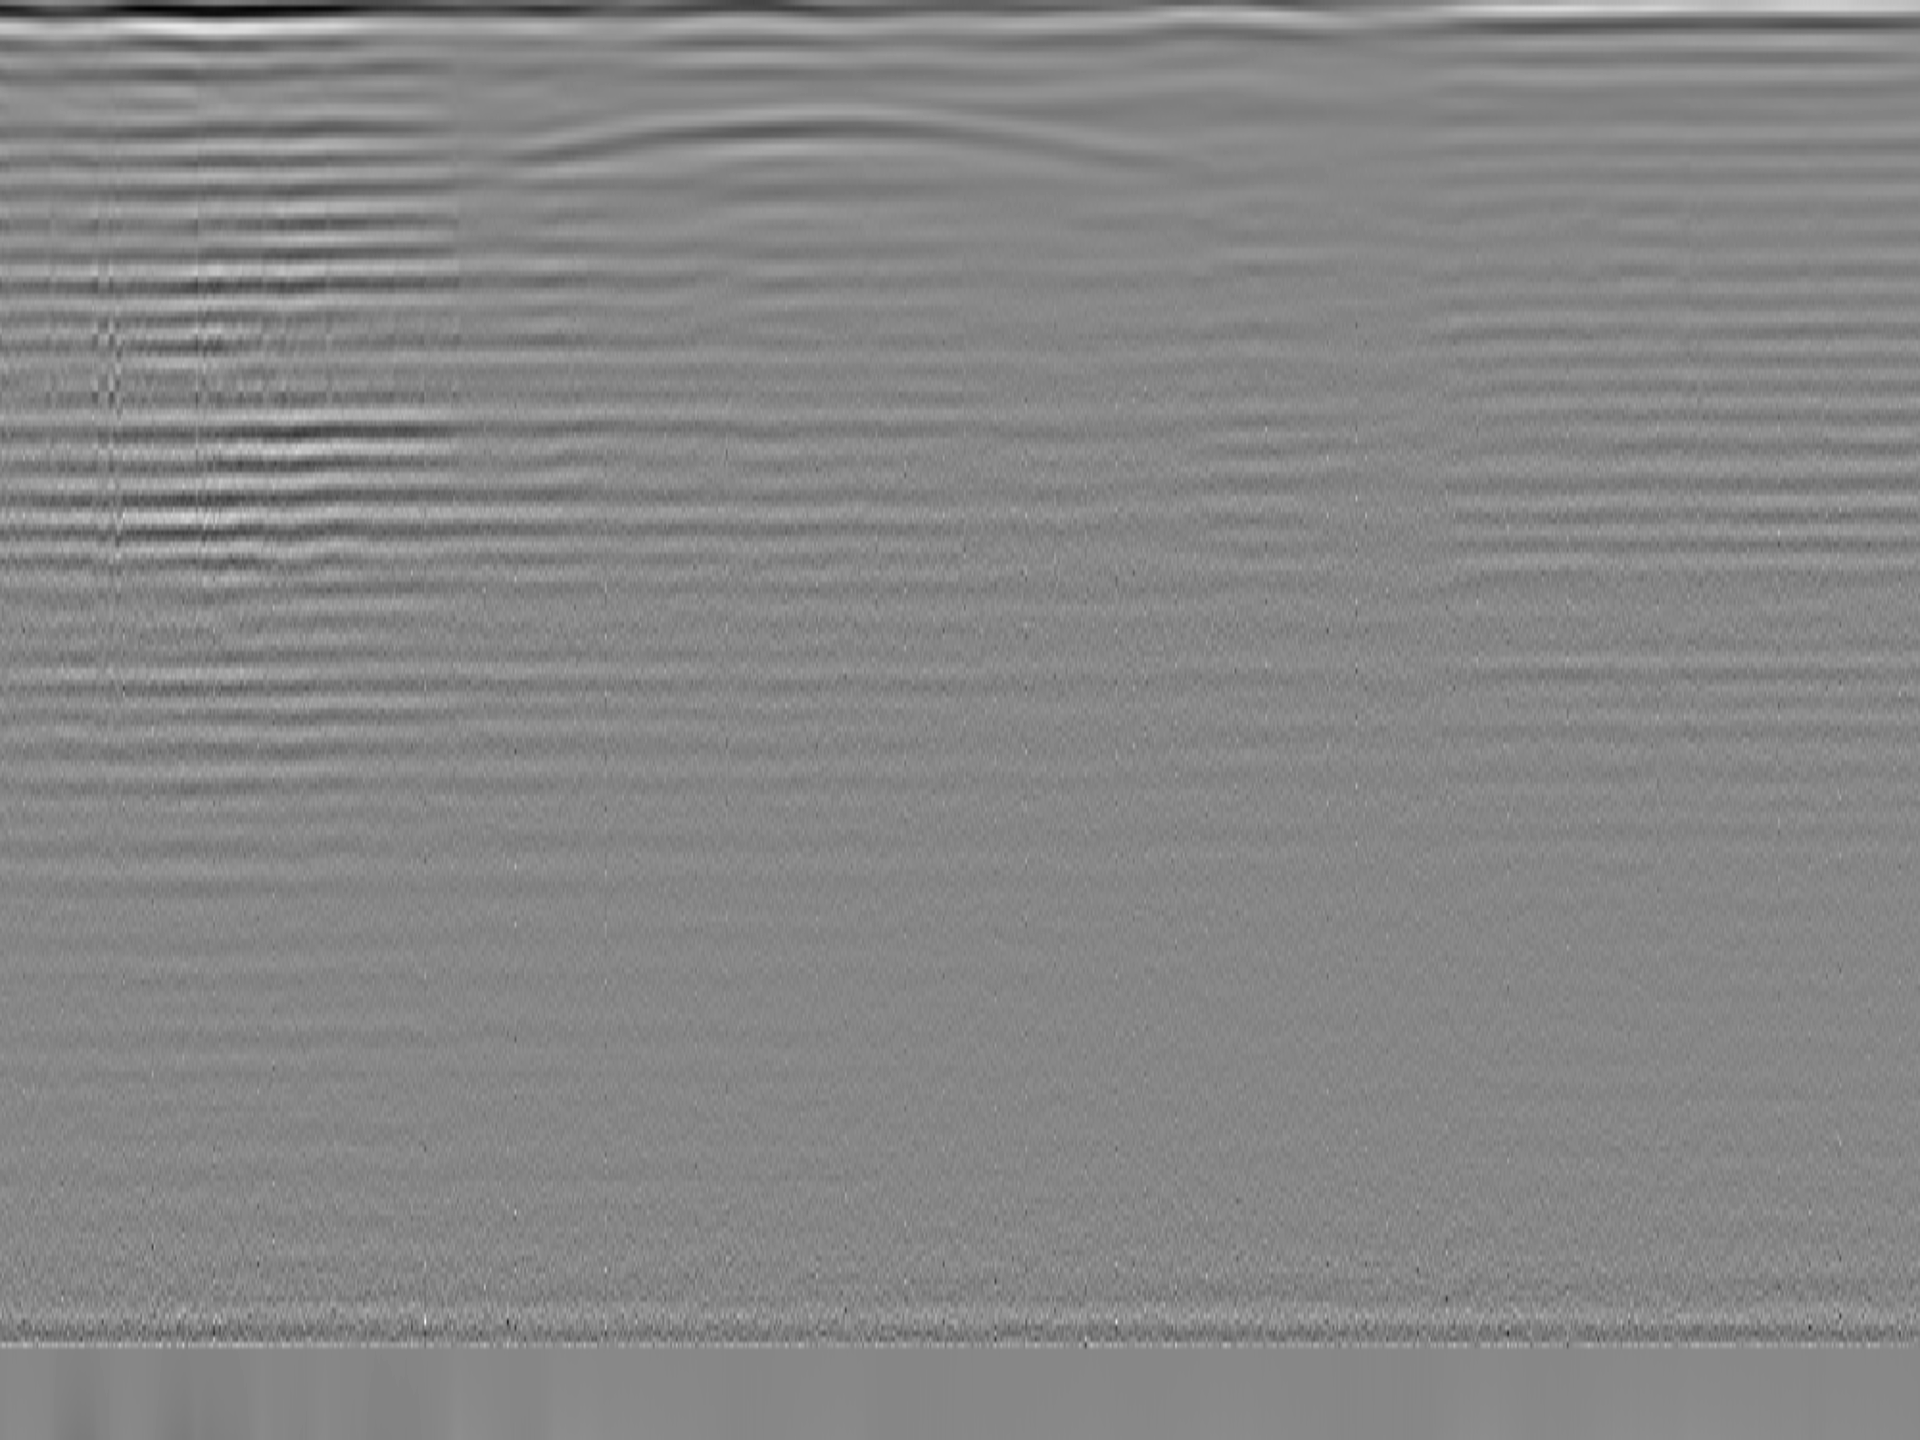Tunnel: (482, 106, 1200, 169)
